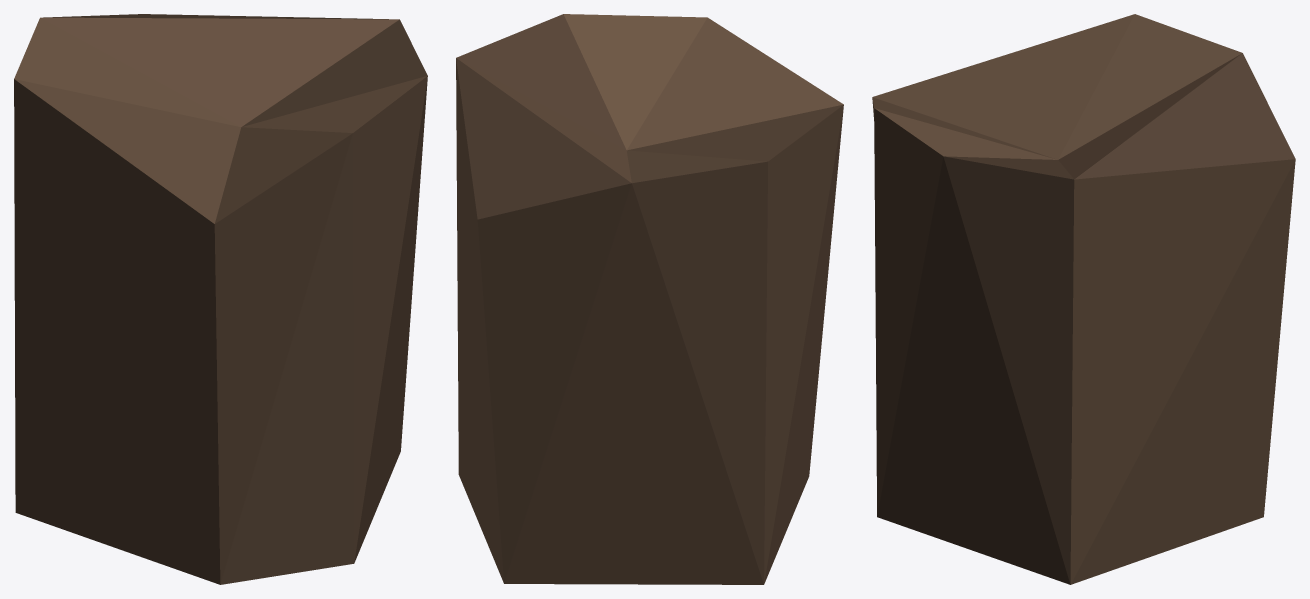
The model's file is Prop_GrainBagCLOD2.fbx.
The picture shows the model from 3 angles, left to right: view 1: azimuth 30°, elevation 25°; view 2: azimuth 150°, elevation 25°; view 3: azimuth 270°, elevation 25°; orthographic projection. The views are drawn at different scales.
Parts seen in each view (by area): view 1: Prop_GrainBagCLOD2; view 2: Prop_GrainBagCLOD2; view 3: Prop_GrainBagCLOD2.
Boxes of the visible parts, x1,y1,x2,y2 form: Prop_GrainBagCLOD2: (14, 14, 427, 584); Prop_GrainBagCLOD2: (456, 14, 843, 584); Prop_GrainBagCLOD2: (872, 14, 1295, 584).
Bounding box in the file's own units: 47.93 × 56.6 × 52.73.
